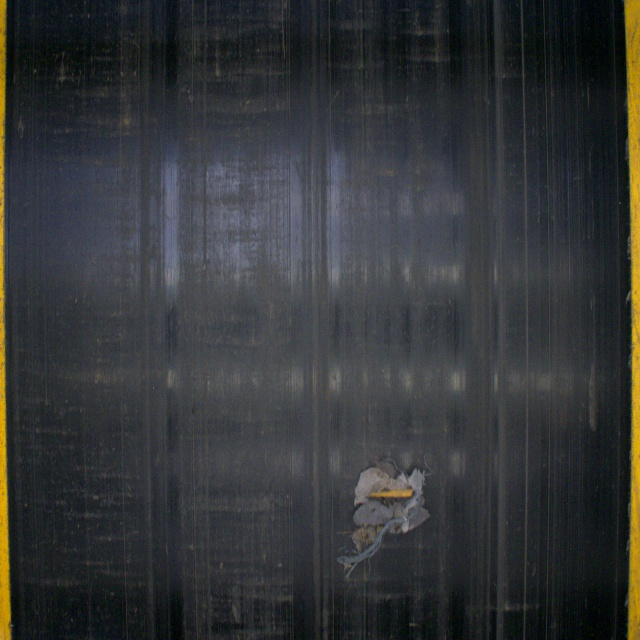Non_Foodgrade: (334, 456, 430, 574)
